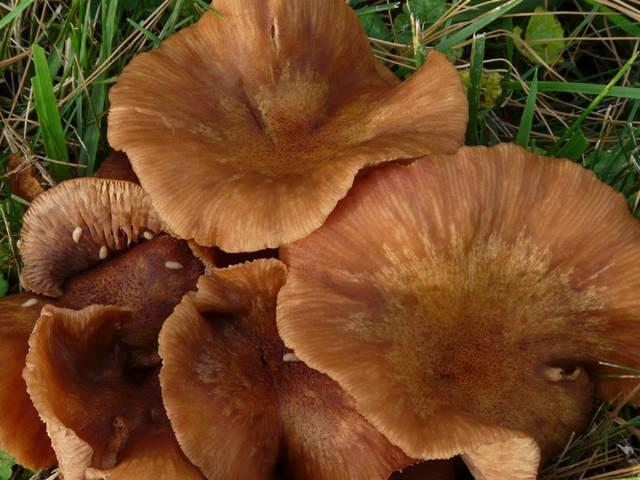edible_mushroom: (274, 140, 639, 479), (105, 0, 470, 252), (3, 175, 275, 479)
